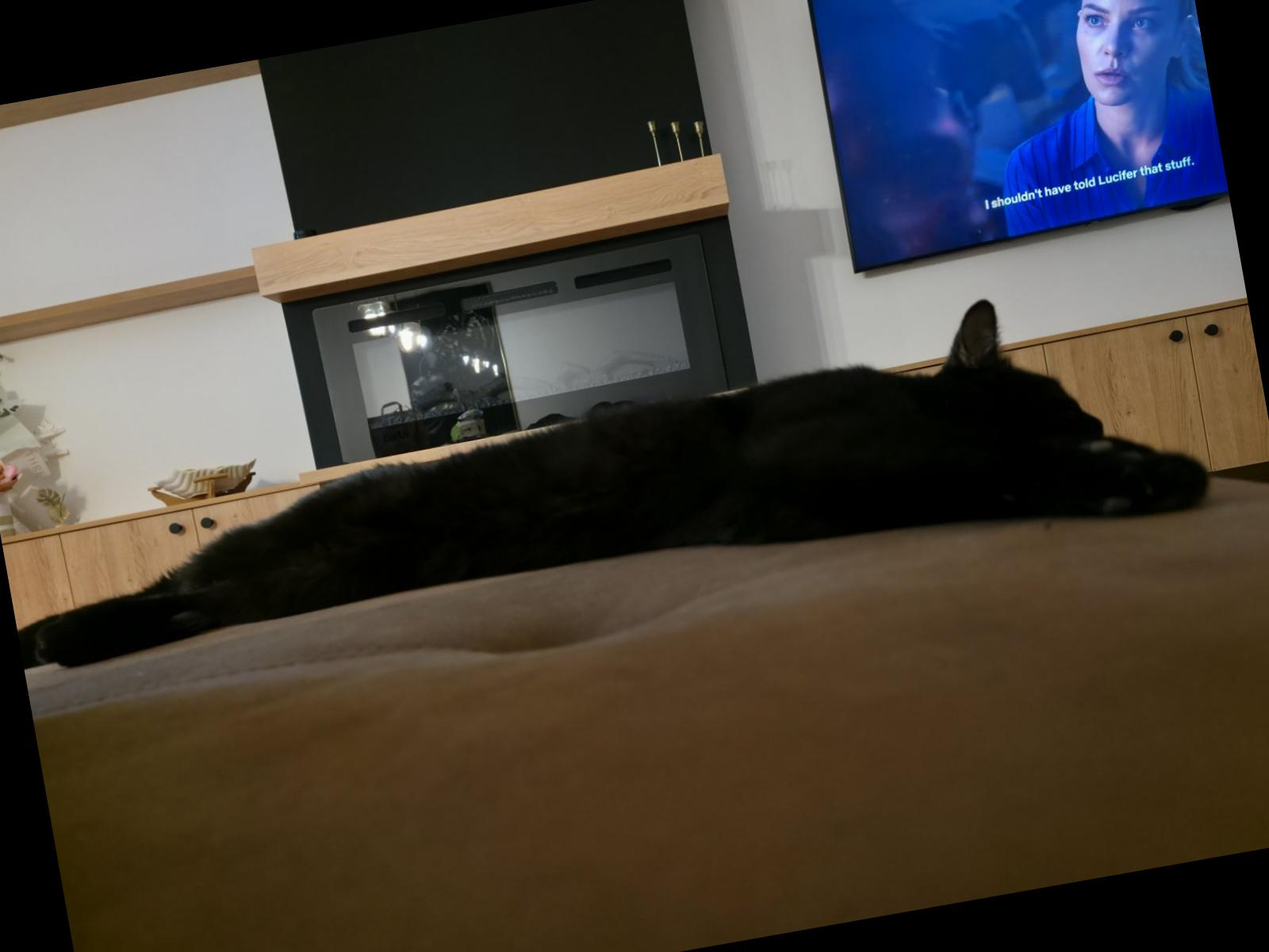macka: (0, 261, 1215, 714)
